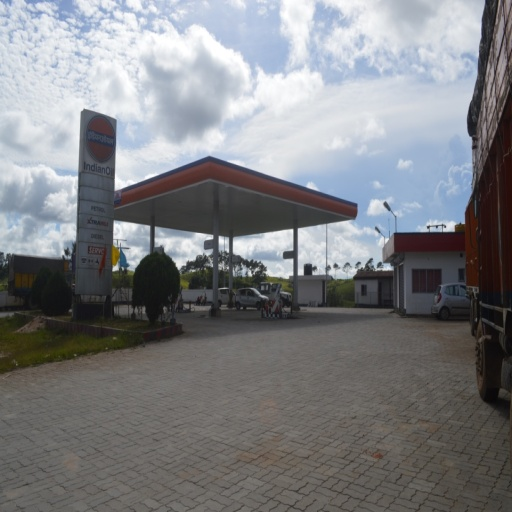roof: (108, 154, 357, 237)
